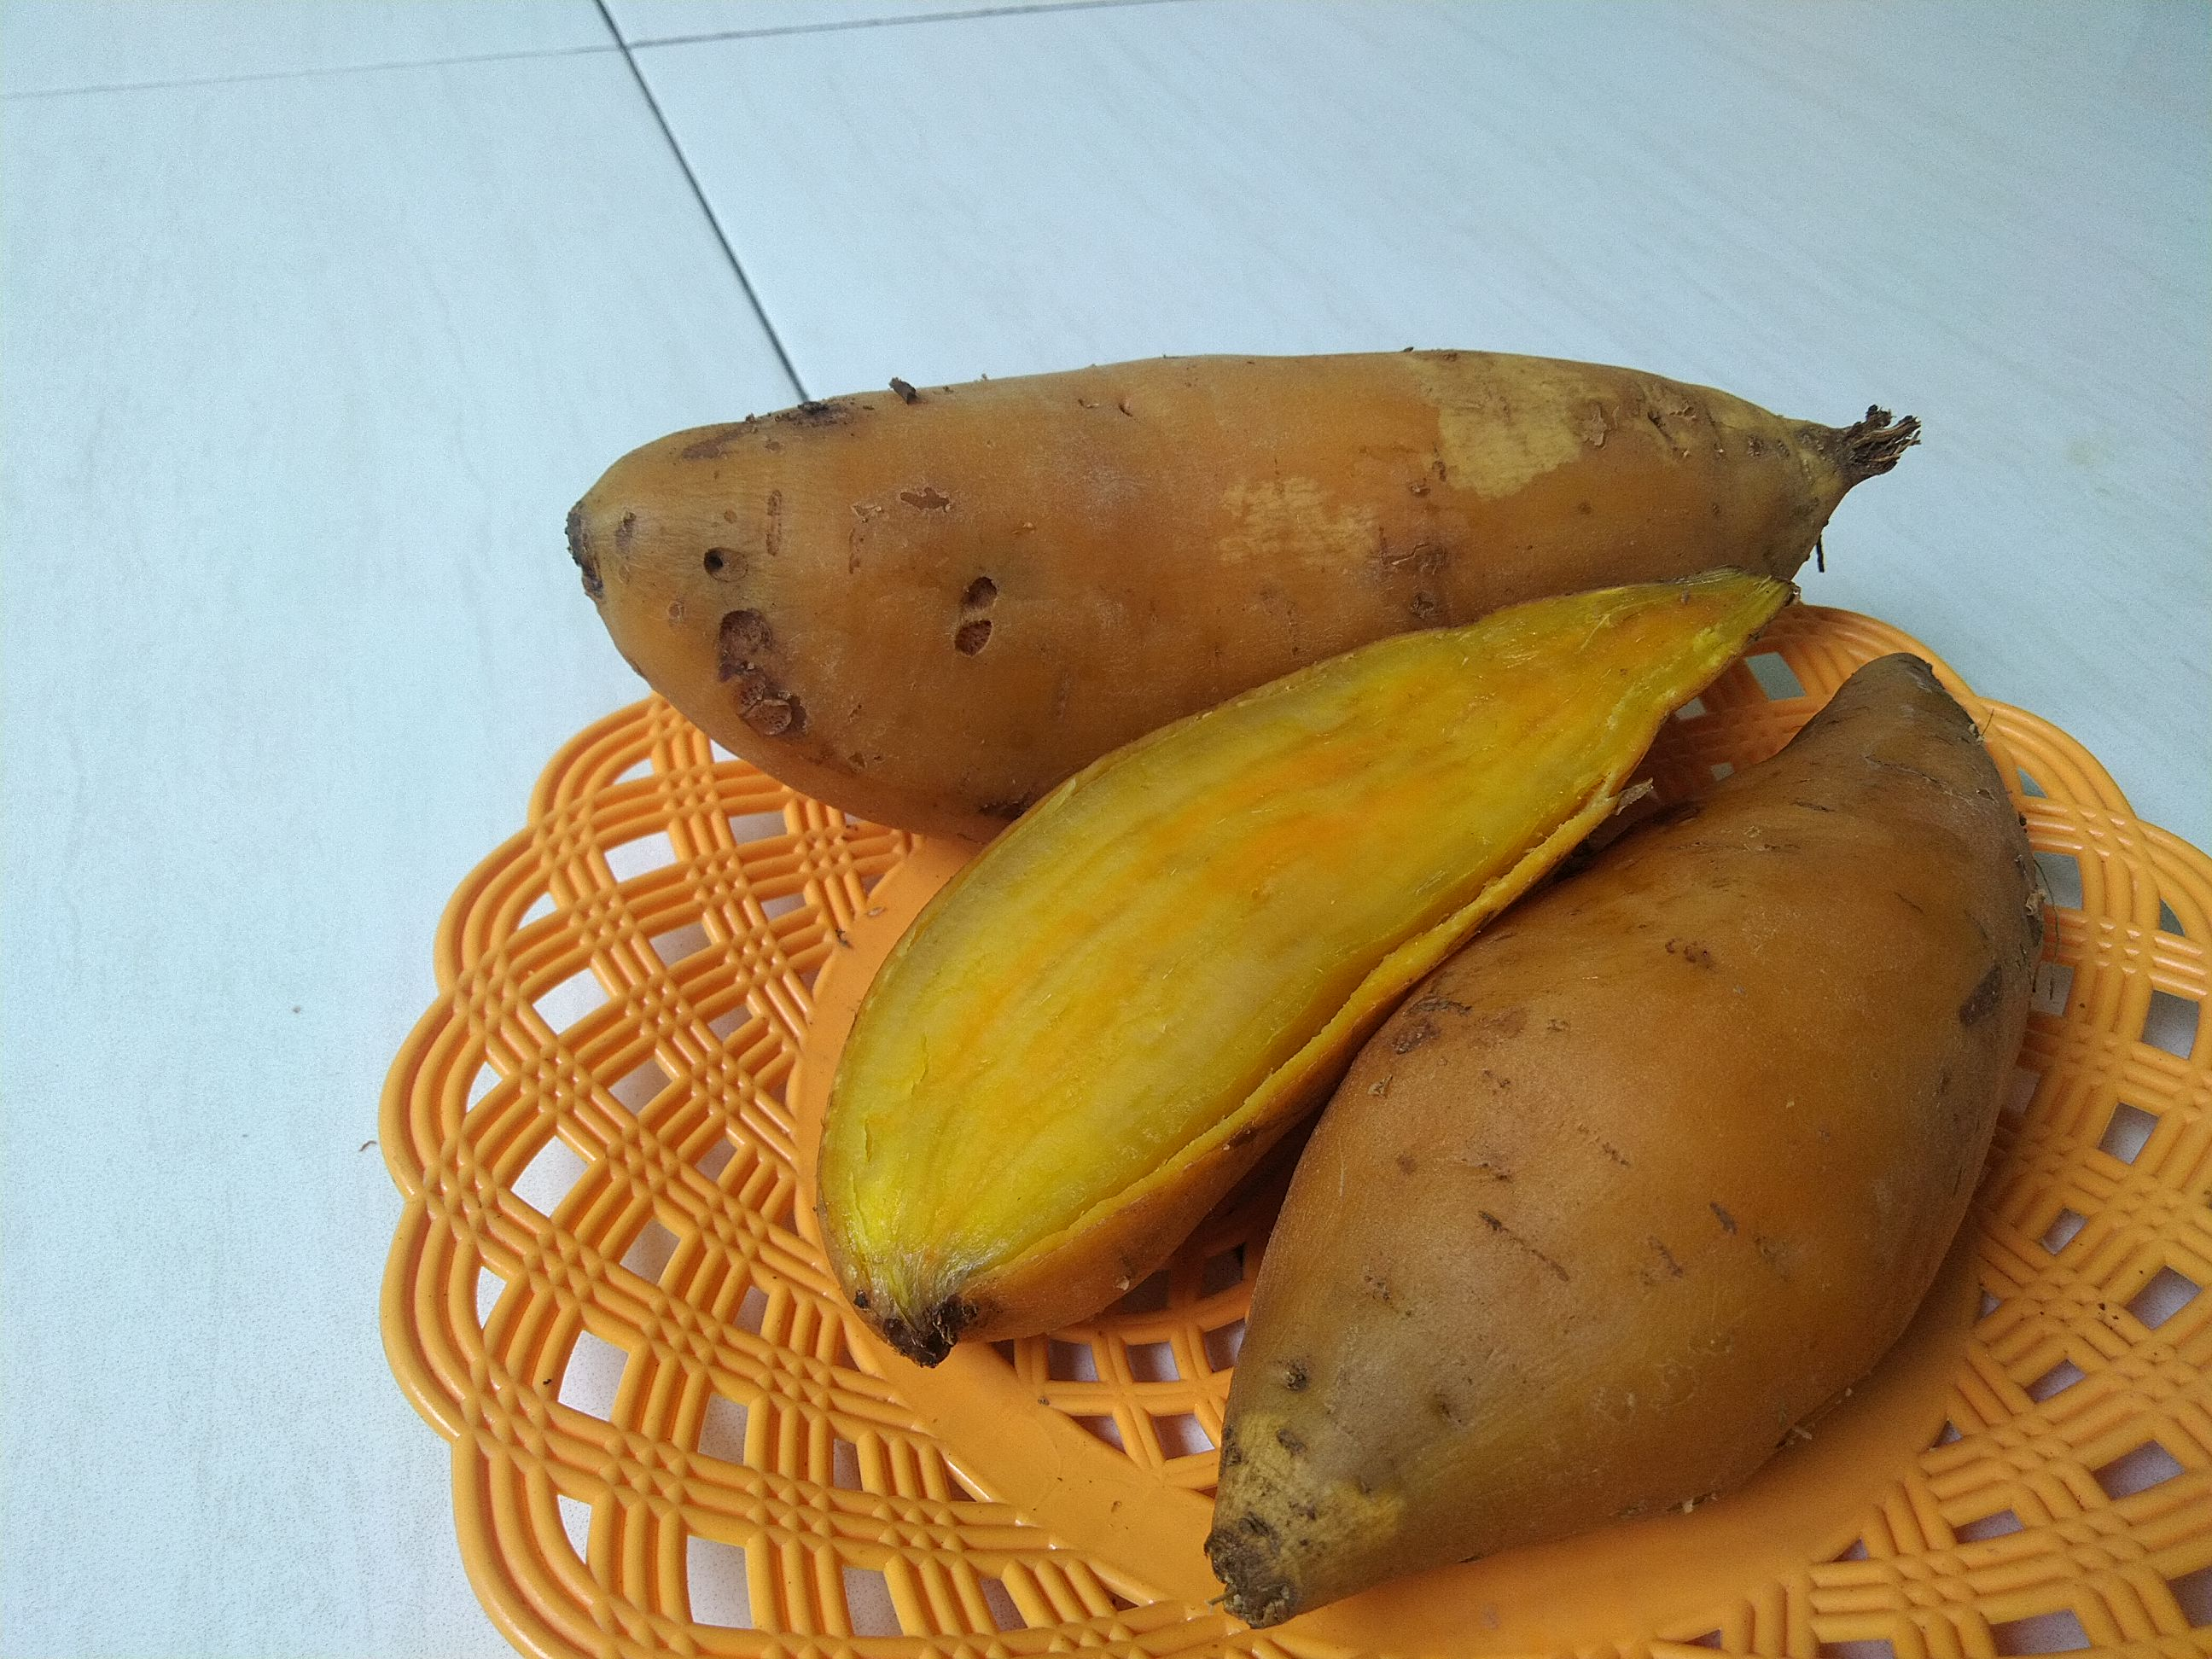ubi cilembu: (1198, 647, 2078, 1635), (813, 556, 1818, 1389), (549, 329, 1918, 829)
